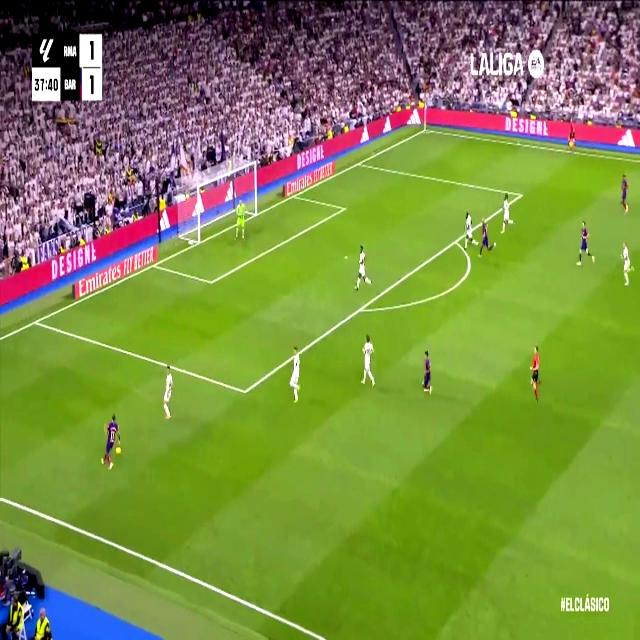bigarea_bottom_inner: (240, 378, 250, 403)
bigarea_bottom_outter: (31, 312, 41, 330)
bigarea_top_inner: (517, 187, 523, 201)
bigarea_top_outter: (356, 157, 362, 168)
bottom_arc_area_intersection: (358, 302, 364, 315)
corner: (422, 126, 428, 132)
smallarea_bottom_inner: (207, 274, 215, 290)
smallarea_top_inner: (341, 202, 346, 213)
top_arc_area_intersection: (452, 233, 460, 249)
